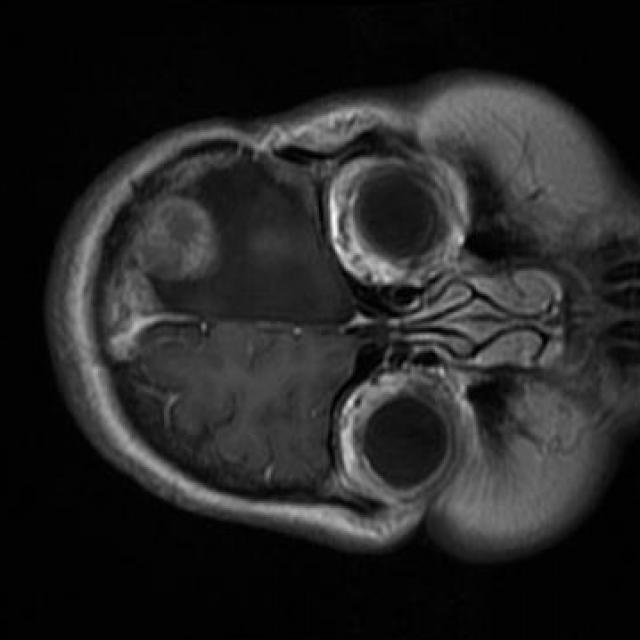glioma: (105, 198, 216, 330)
